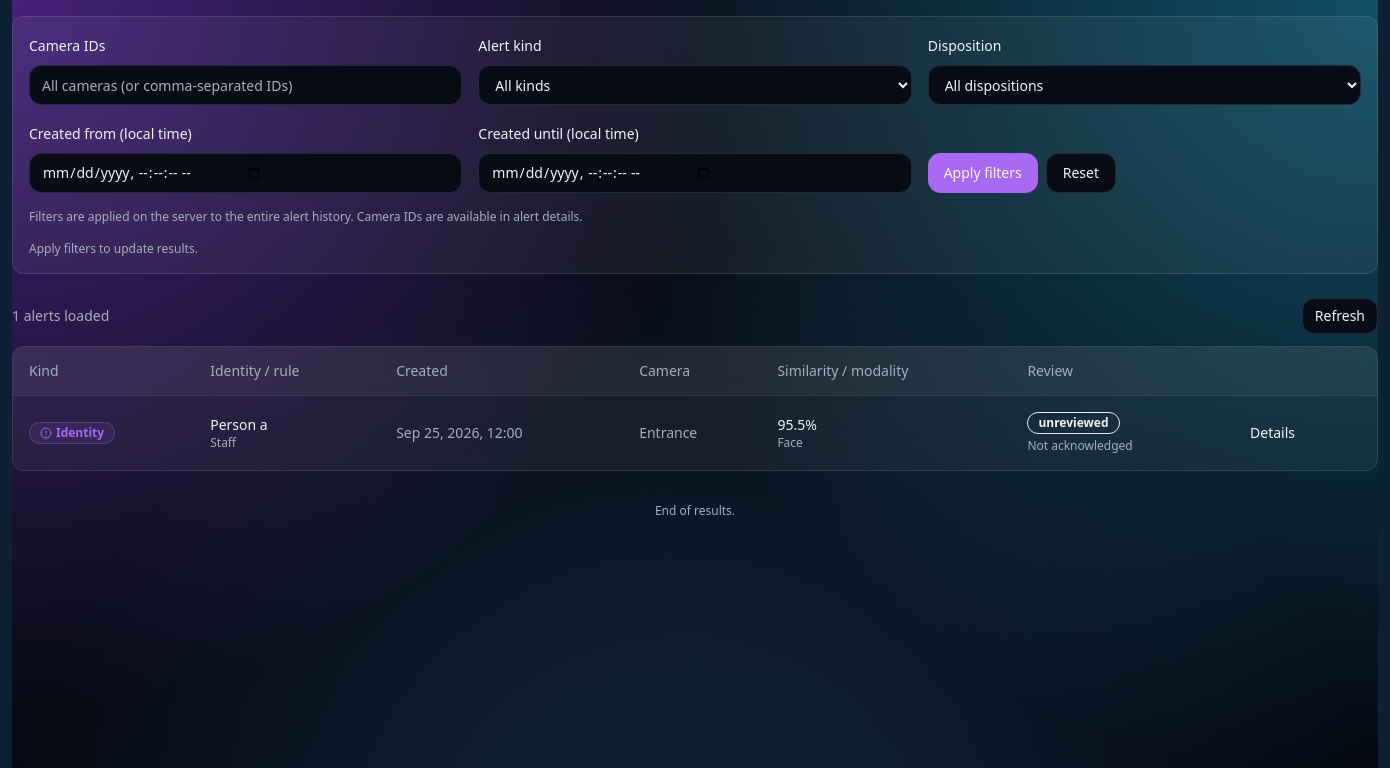
Test: server-side alert filters › applies deduplicated cameras, kind, disposition and ISO dates only on submit, then resets
Type " a, b, a, , " into the field labelled "Camera IDs" at (246, 85), box left=29, top=65, right=462, bottom=105
Select "Rule" in the dropdown labelled "Alert kind" at (695, 85), box left=478, top=65, right=912, bottom=105
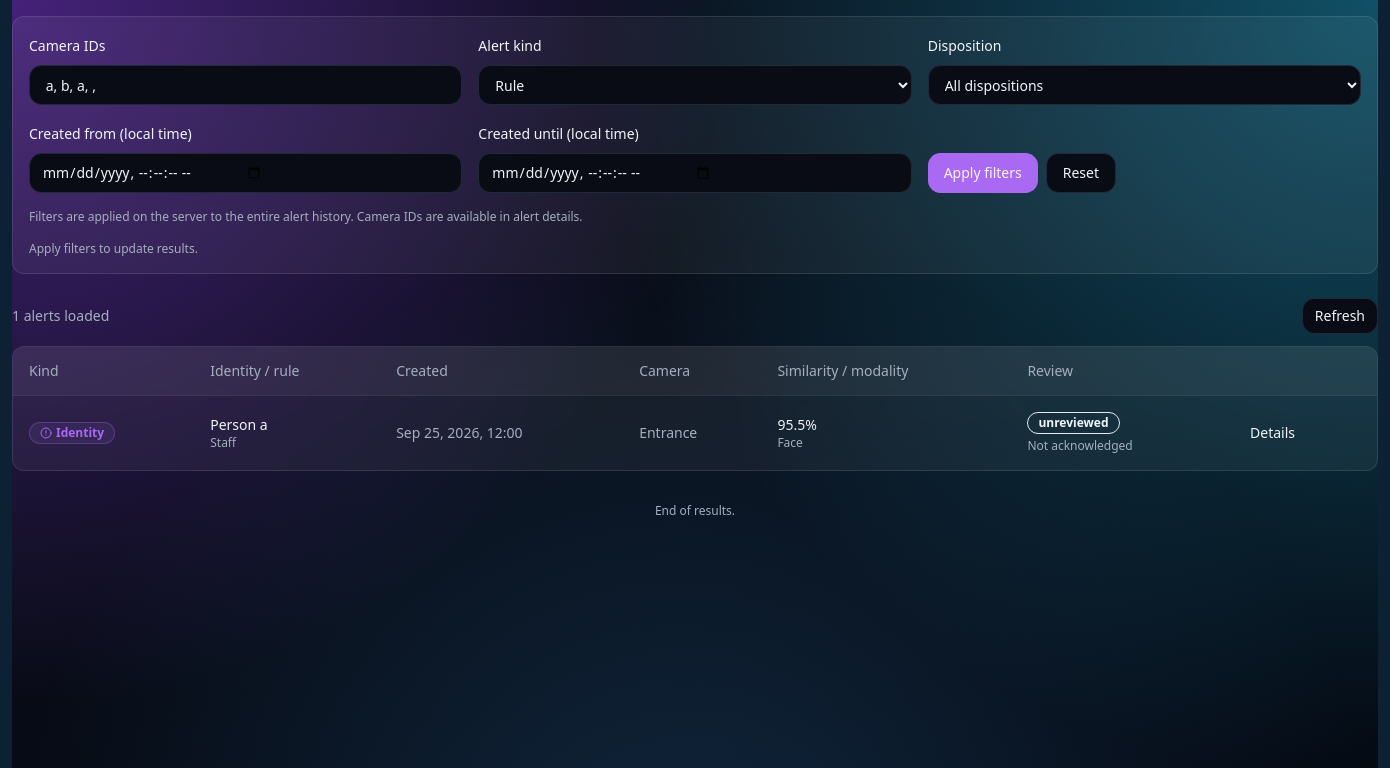
Select "False positive" in the dropdown labelled "Disposition" at (1144, 85), box left=928, top=65, right=1361, bottom=105
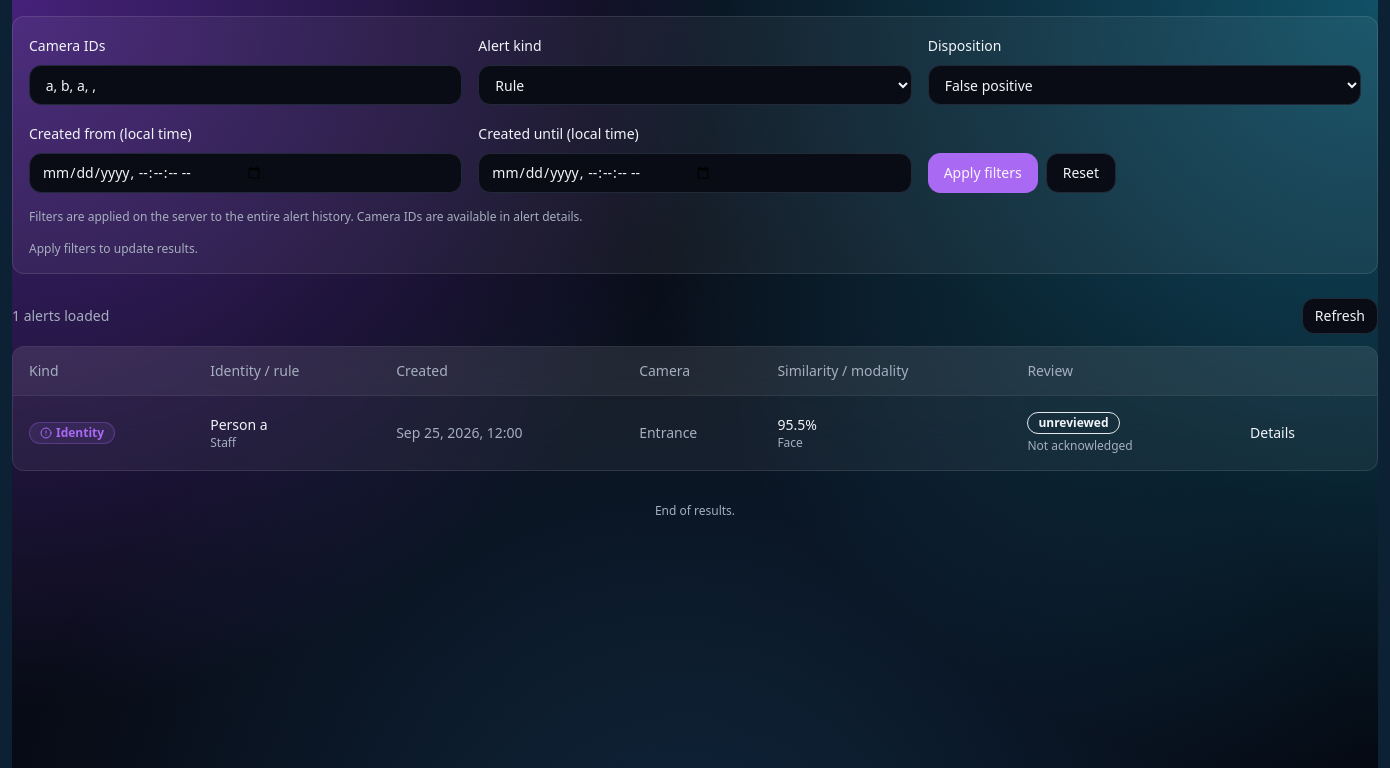
Type "2026-09-01T09:00" into the field labelled "Created from (local time)" at (246, 173), box left=29, top=153, right=462, bottom=193
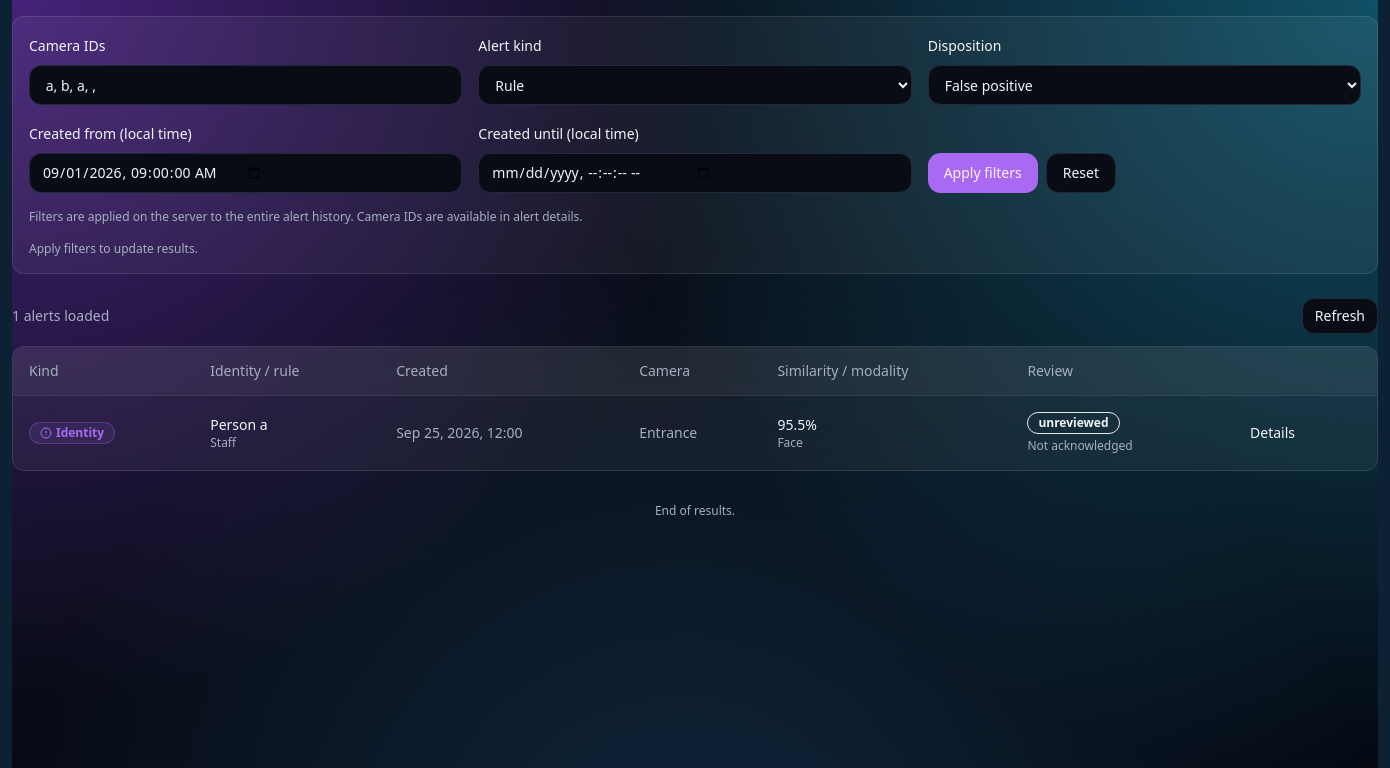
Type "2026-09-25T10:00" into the field labelled "Created until (local time)" at (695, 173), box left=478, top=153, right=912, bottom=193
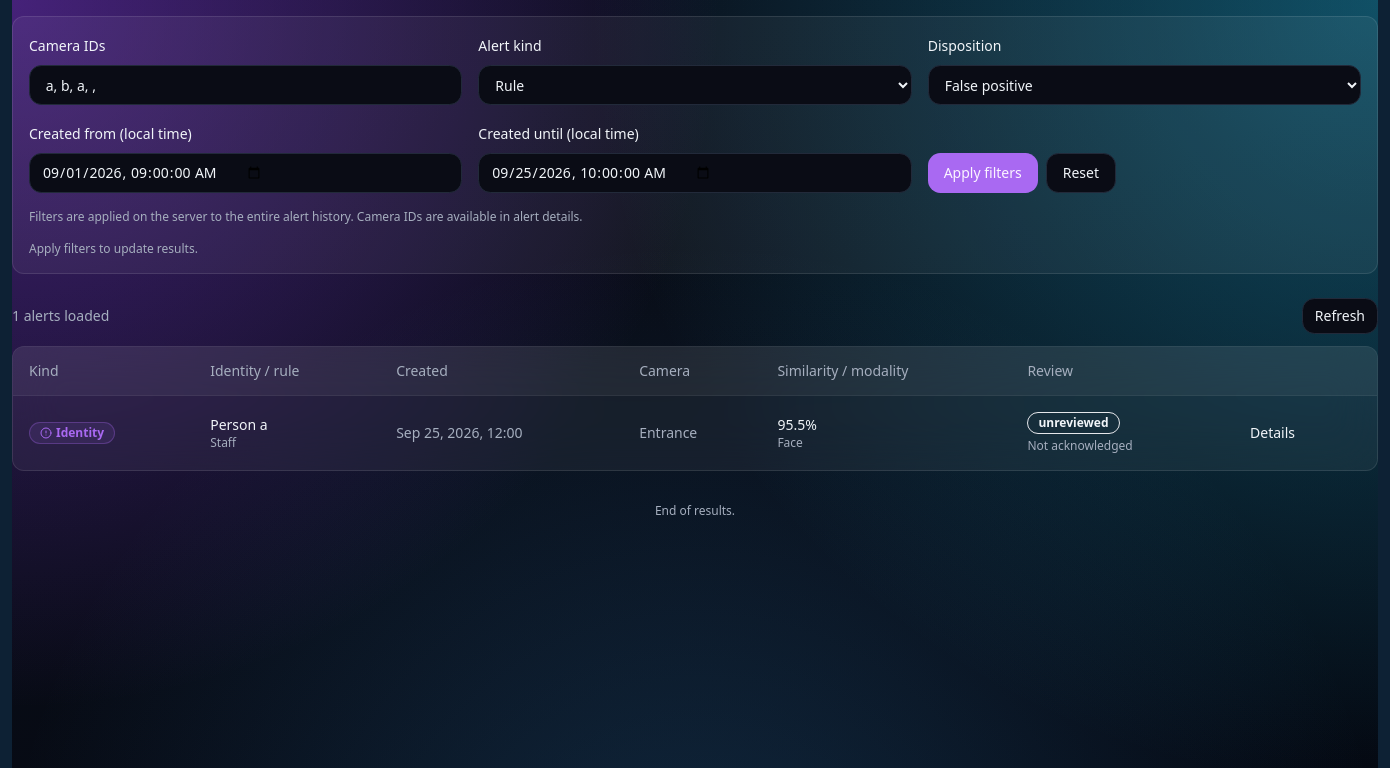
Click the button "Apply filters" at (983, 173), box left=928, top=153, right=1038, bottom=193
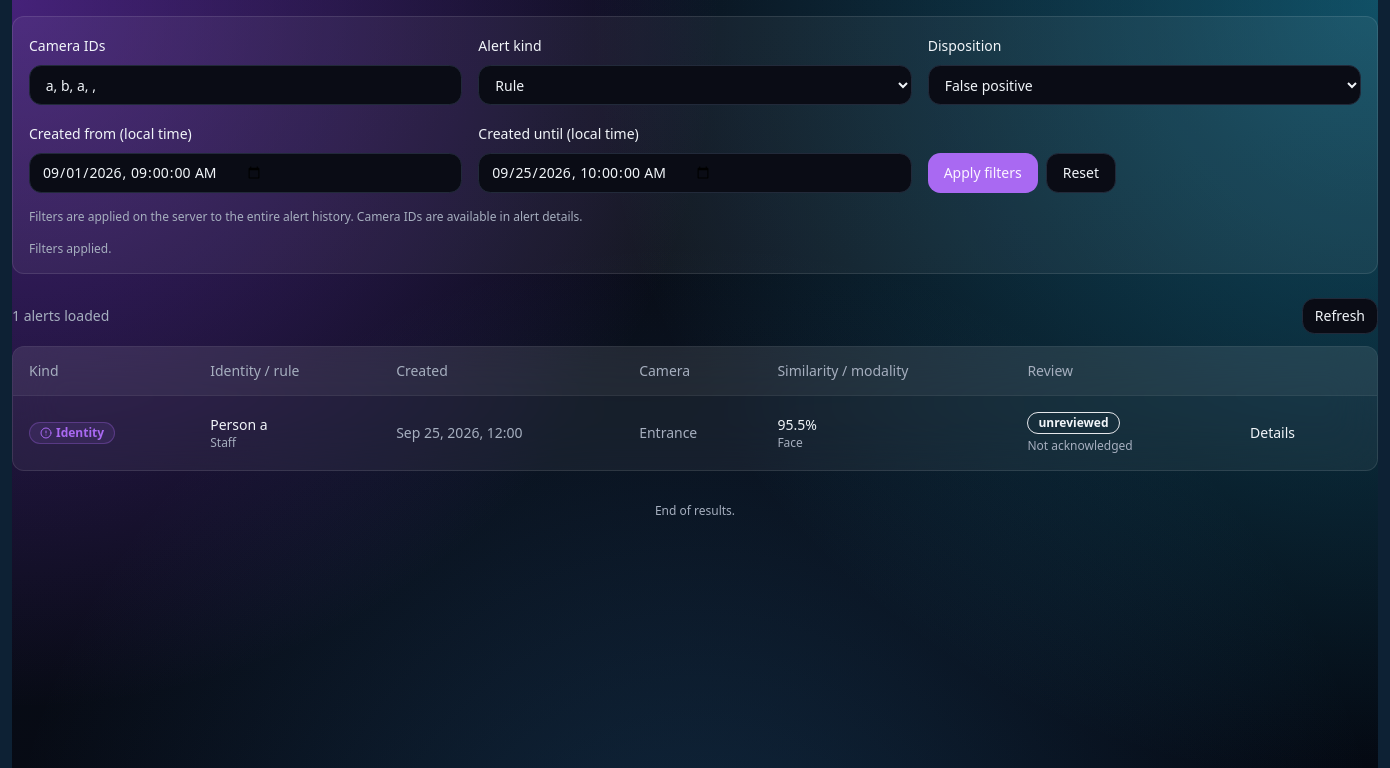
Click the button "Reset" at (1081, 173), box left=1046, top=153, right=1116, bottom=193
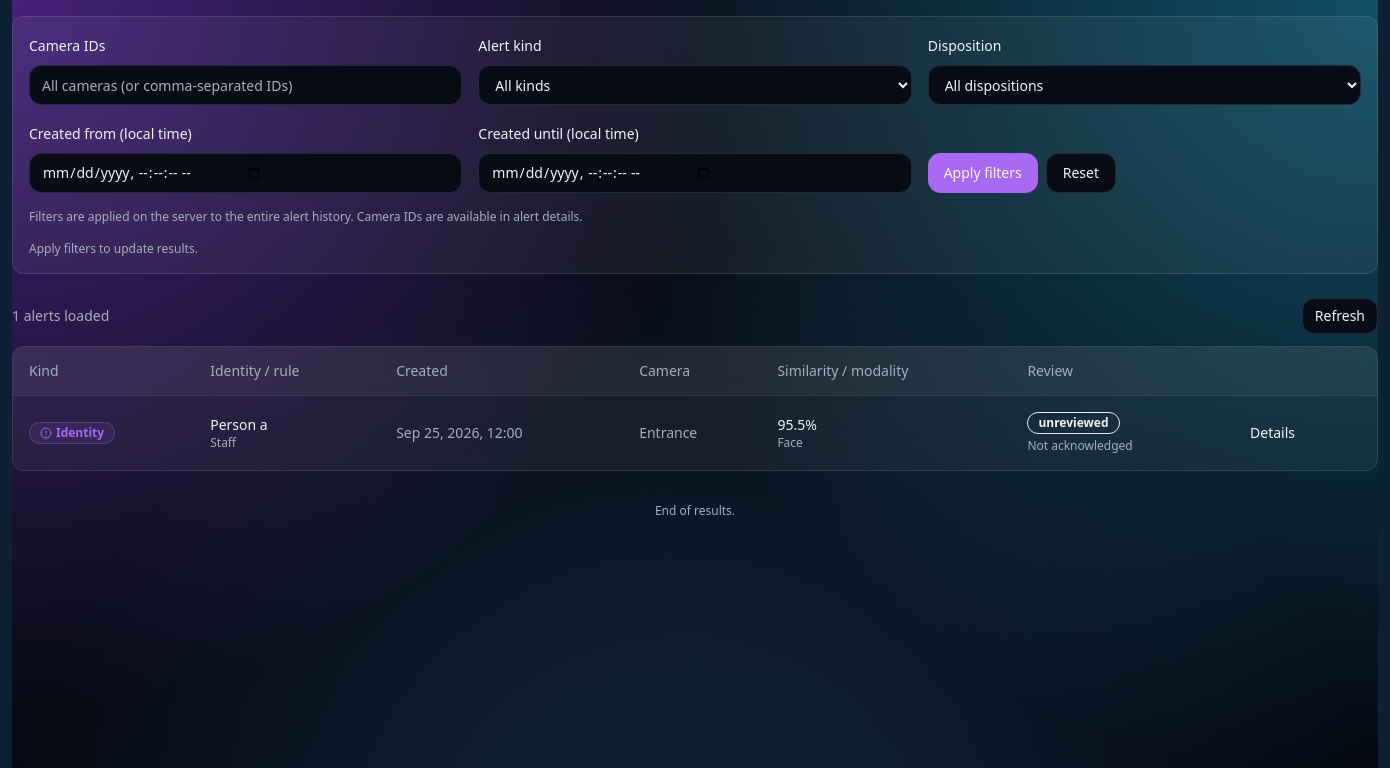
Expected: the field labelled "Camera IDs" is empty, left=29, top=65, right=462, bottom=105
